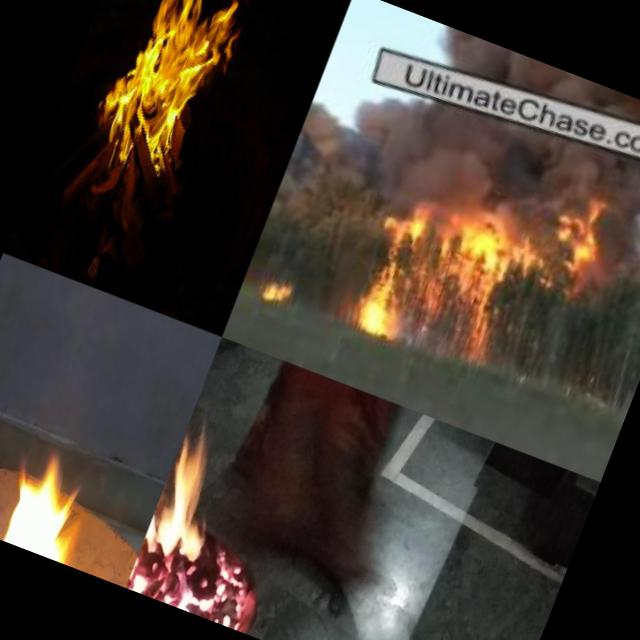fire: (334, 170, 554, 388), (78, 0, 265, 201), (126, 383, 263, 610), (0, 422, 127, 574), (520, 184, 620, 278), (184, 530, 274, 634), (247, 261, 316, 324)
smoke: (336, 78, 558, 222), (592, 167, 640, 311)
